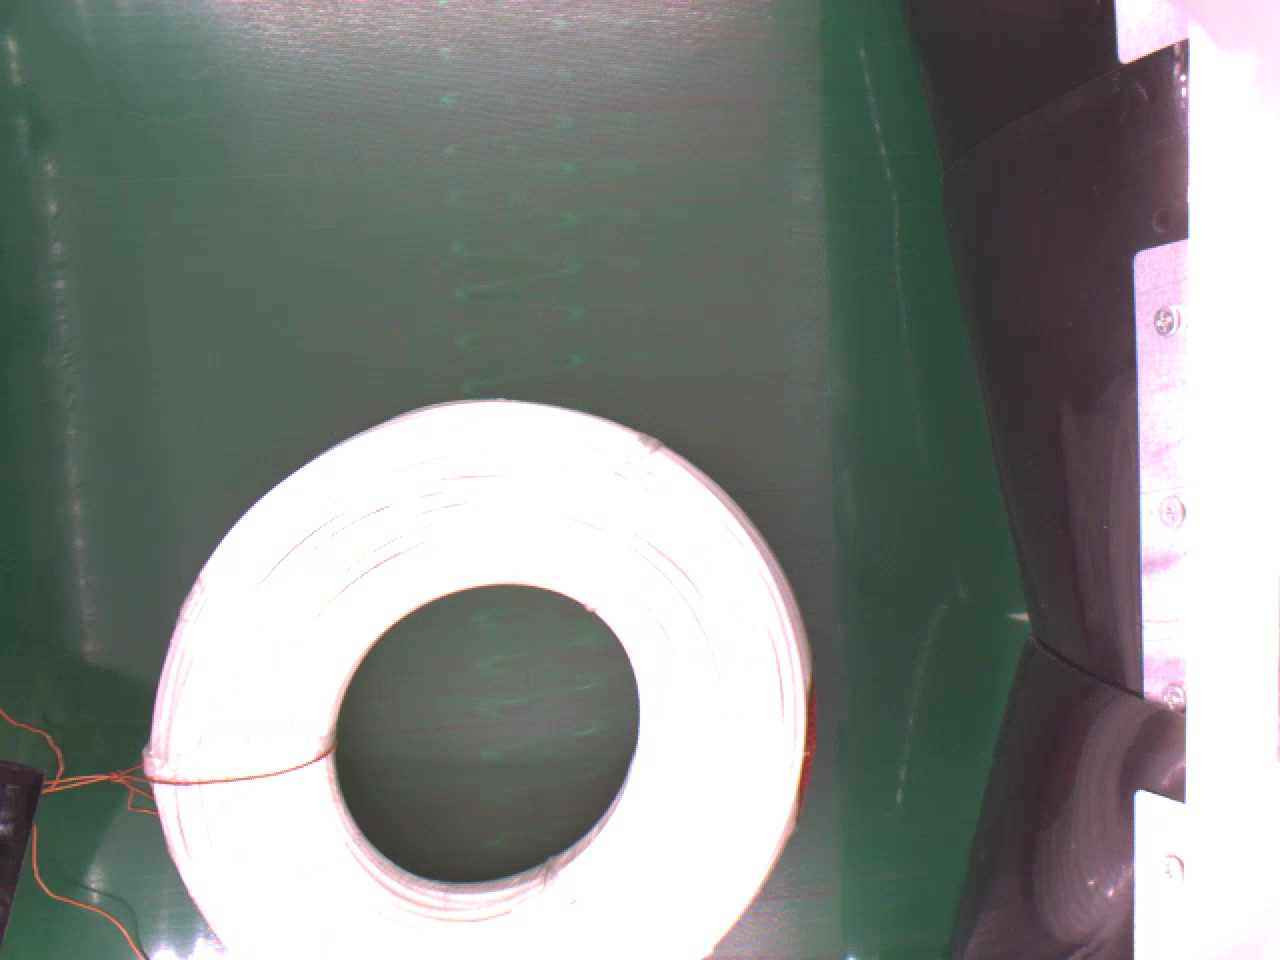white: (142, 396, 815, 957)
